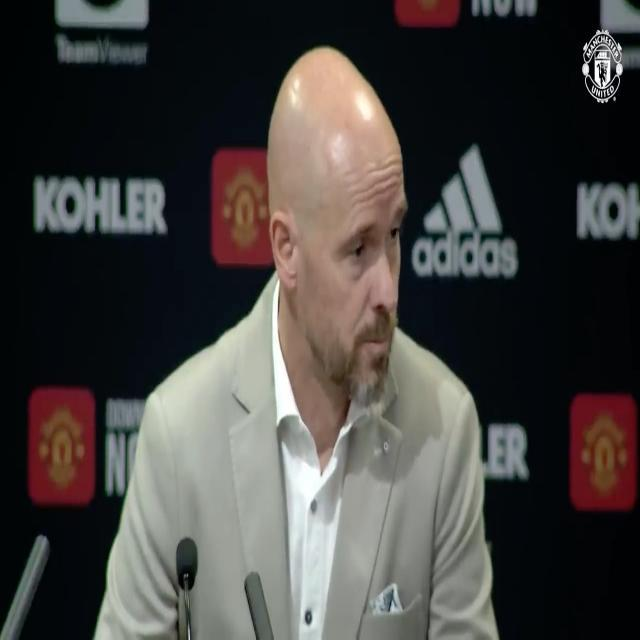Adidas: (411, 140, 518, 280)
Kohler: (34, 176, 166, 234)
TeamViewer: (56, 0, 149, 66)
